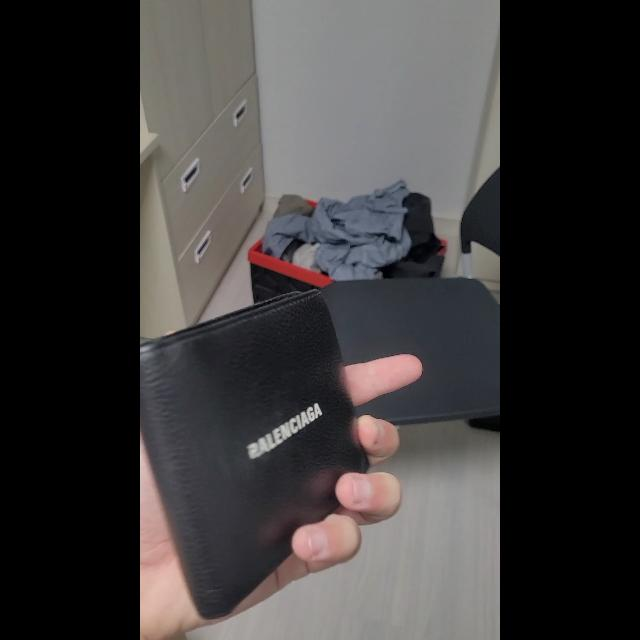WALLET: (140, 288, 370, 620)
